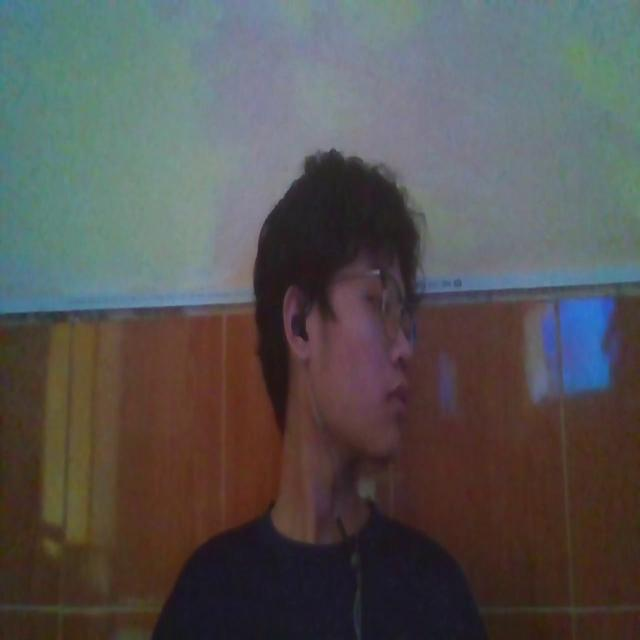student: (133, 130, 494, 640)
